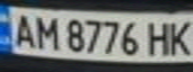6: (118, 18, 145, 57)
7: (81, 16, 103, 54), (100, 17, 121, 55)
8: (60, 16, 84, 53)
A: (6, 10, 39, 48)
H: (145, 18, 175, 56)
K: (163, 17, 193, 56)
M: (30, 12, 60, 51)
